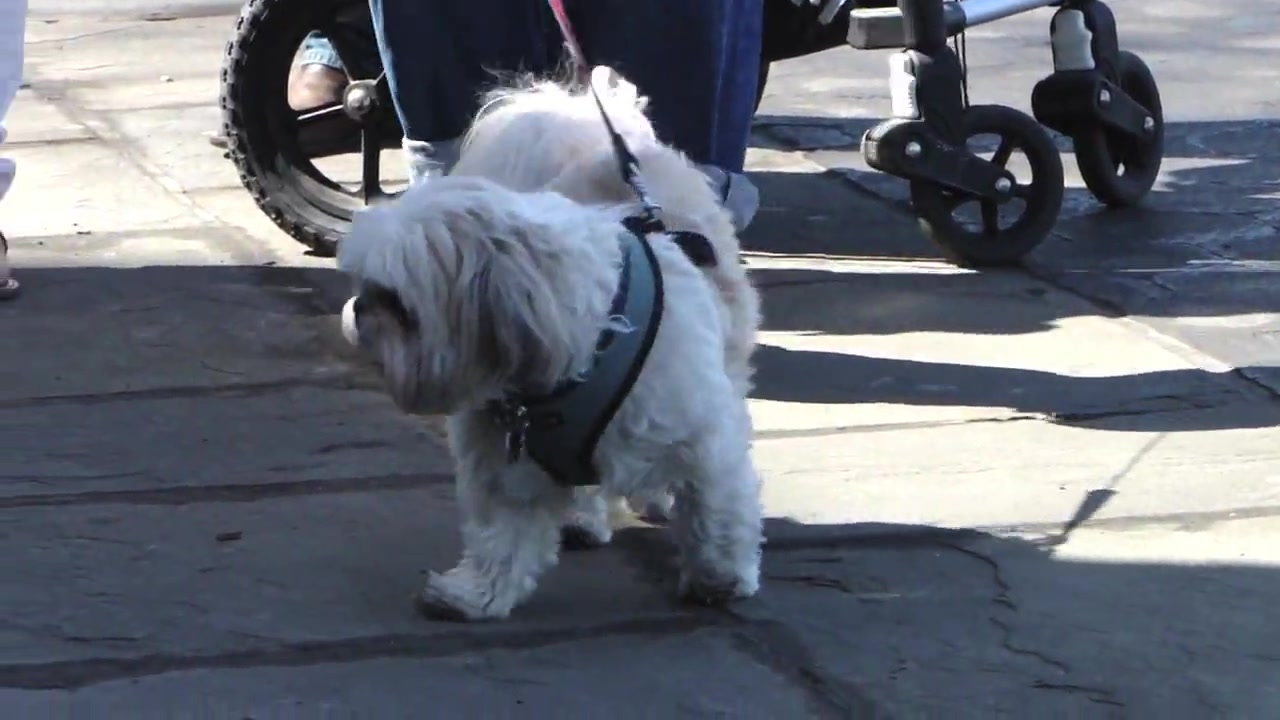dog: (331, 67, 765, 636)
